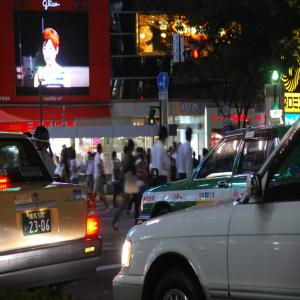Vehicle-registration-plate: (23, 211, 52, 236)
